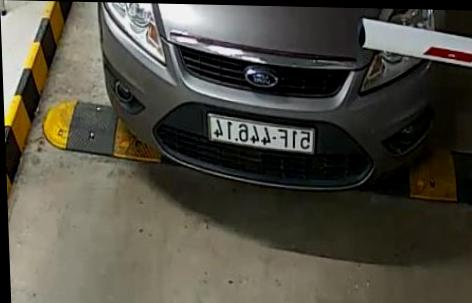License_Plate: (197, 114, 323, 159)
